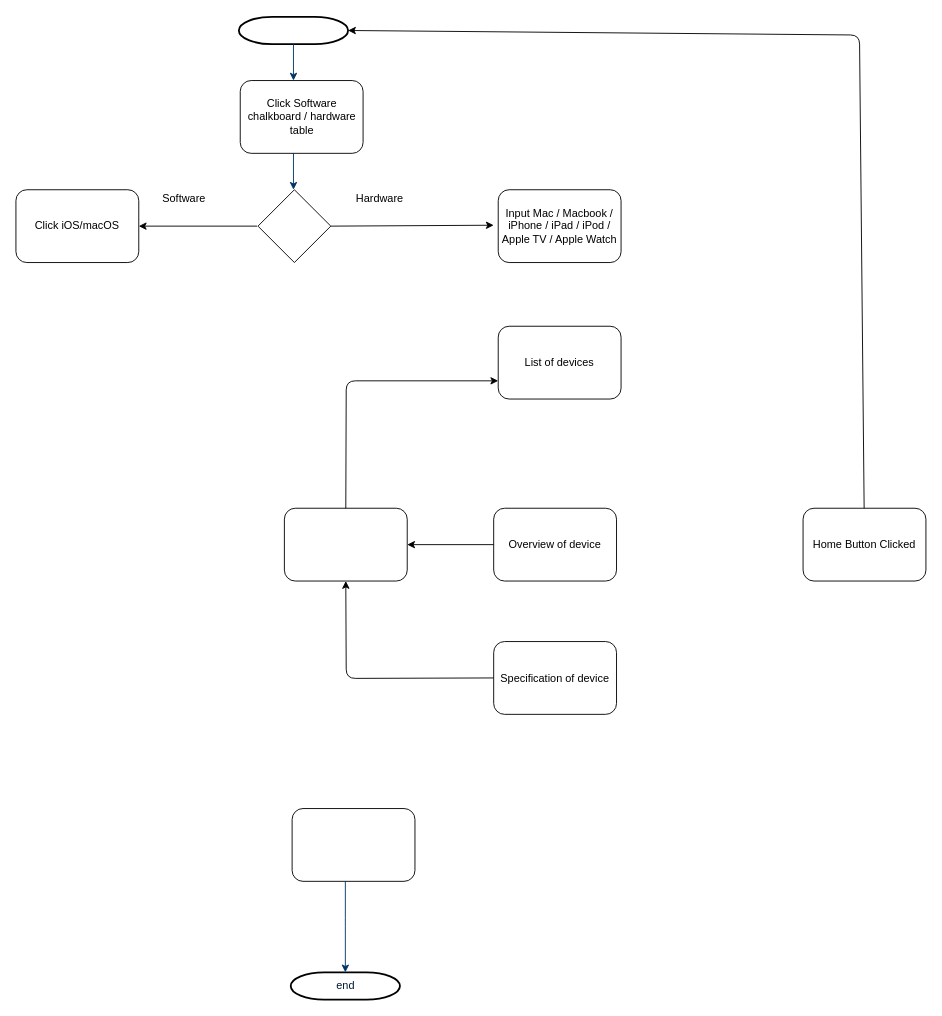
Image size: 942x1016. Some labels were removed from this diagram. Here are the shapes that lost their labels. From the top down, the centre of each, then its label:
At point 293,30: "start".
At point 294,226: "Input Result".
At point 345,544: "Back Button Clicked".
At point 353,844: "Tab/Window Closed".
